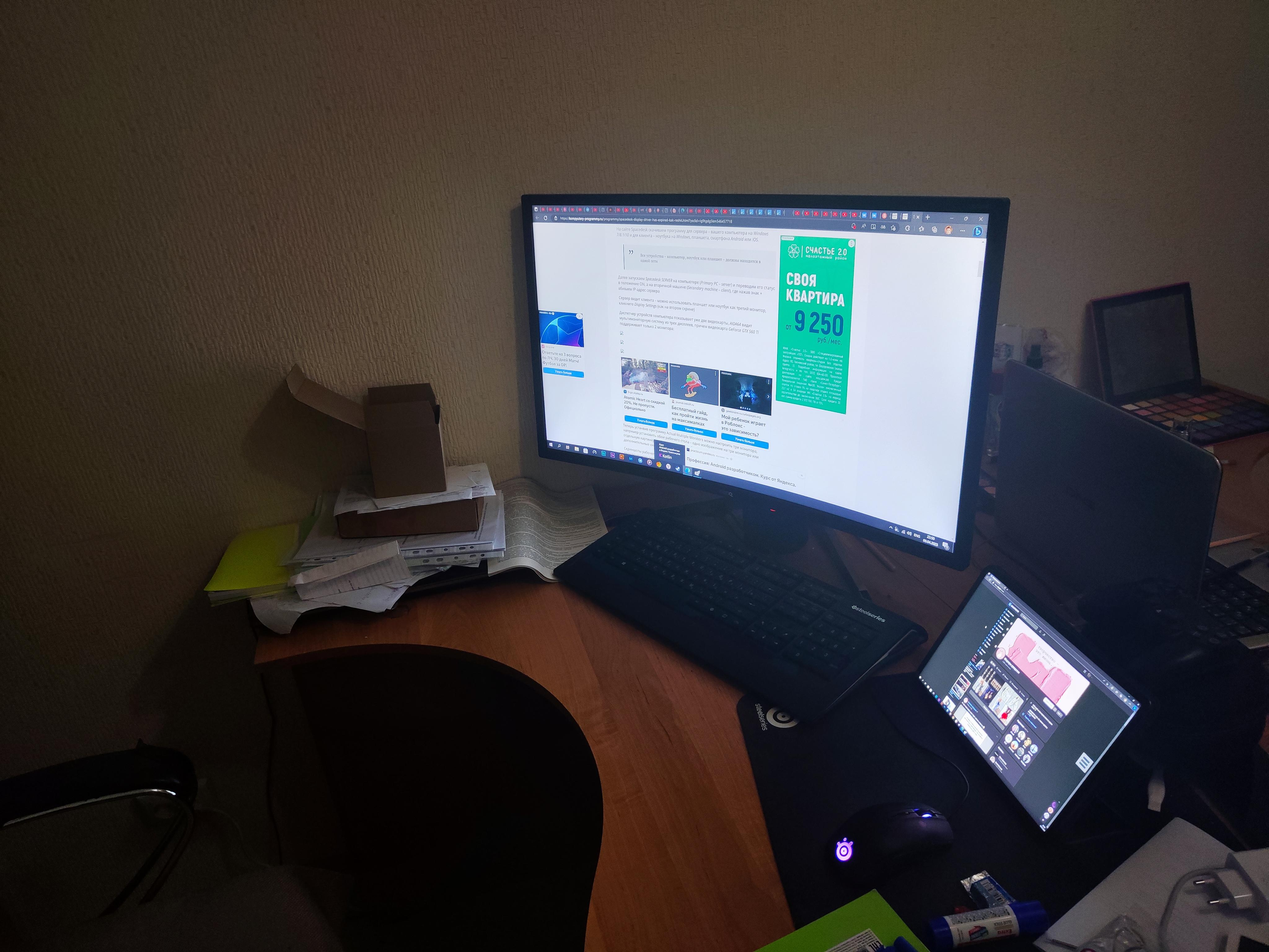monitor: (508, 184, 1016, 583), (900, 570, 1154, 843)
